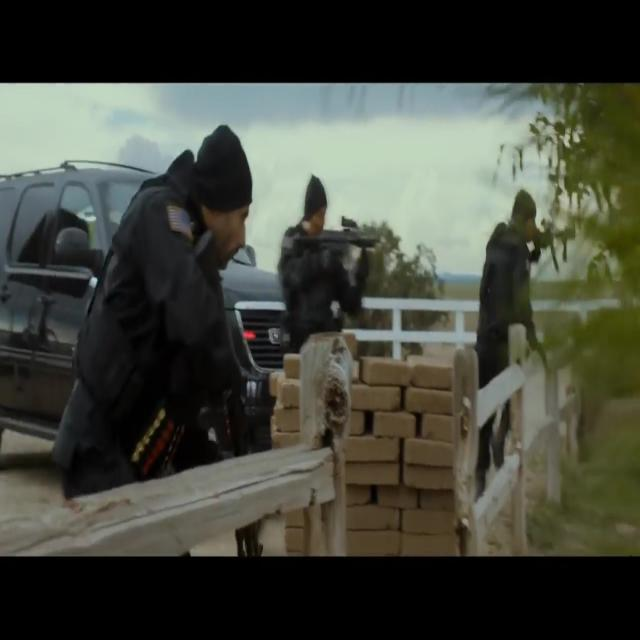Weapon: (185, 186, 312, 487), (513, 176, 616, 338), (80, 357, 205, 469), (289, 199, 386, 295)
